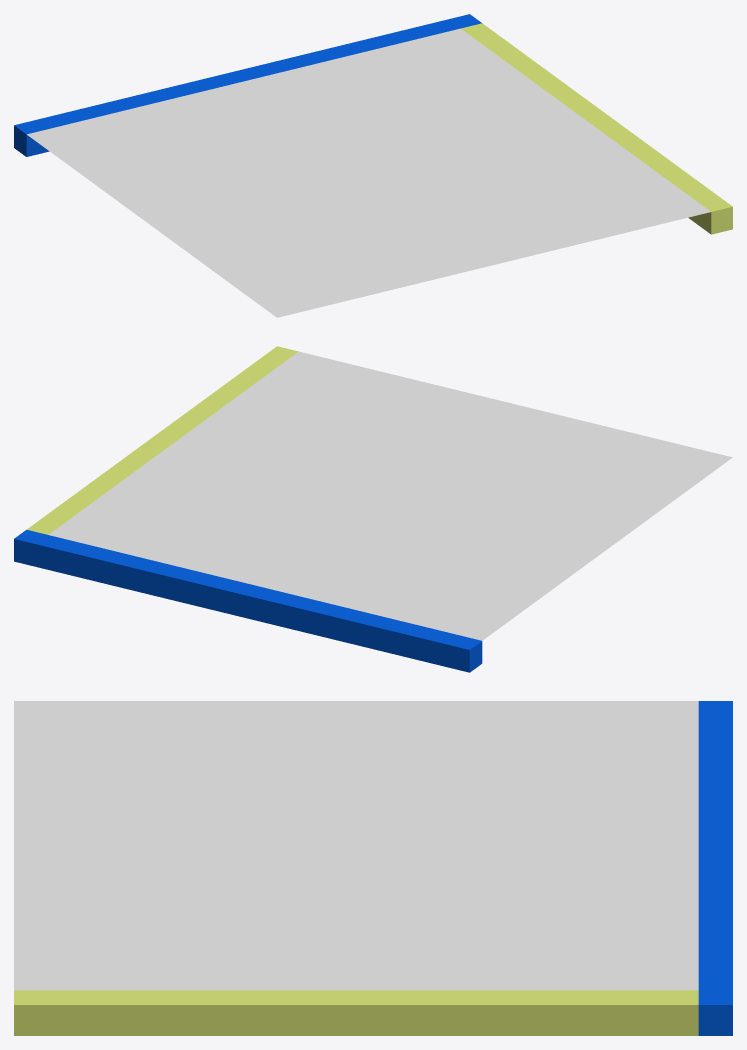
Rendered from MetalWalkway.fbx.
The picture shows the model from 3 angles, top to bottom: view 1: azimuth 30°, elevation 25°; view 2: azimuth 150°, elevation 25°; view 3: azimuth 270°, elevation 25°; orthographic projection. The views are drawn at different scales.
Parts seen in each view (by area): view 1: Plane, Plane.002, Plane.001; view 2: Plane, Plane.002, Plane.001; view 3: Plane, Plane.001, Plane.002.
Part boxes in pixels (x1,y1,x2,y2): Plane: (27,28,710,317); Plane.002: (14,14,481,156); Plane.001: (461,23,732,234); Plane: (48,351,732,640); Plane.002: (14,529,482,672); Plane.001: (27,346,298,534); Plane: (14,701,698,990); Plane.001: (14,990,698,1035); Plane.002: (698,701,732,1035).
Bounding box in the file's own units: 210 × 10 × 210.
